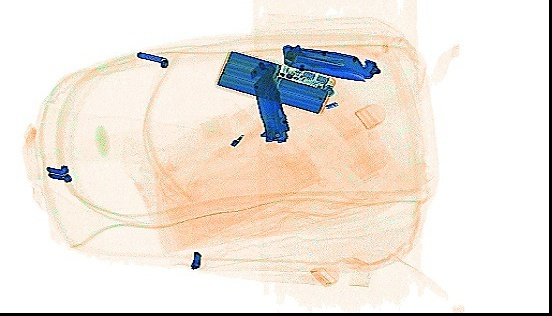knife: (278, 41, 381, 82), (245, 56, 290, 144)
powerbank: (212, 47, 336, 115)
